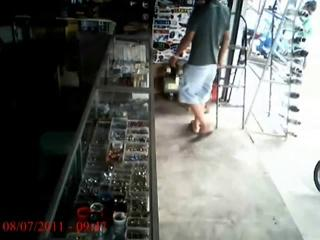Normal: (168, 0, 231, 138)
